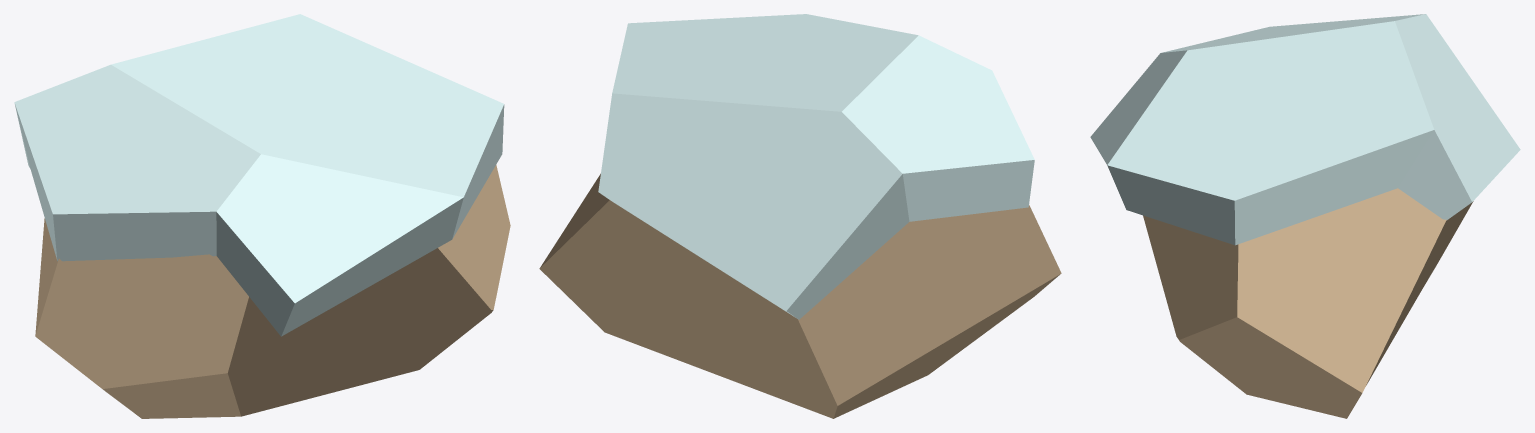
File: nature_stone-snow.fbx
The picture shows the model from 3 angles, left to right: view 1: azimuth 30°, elevation 25°; view 2: azimuth 150°, elevation 25°; view 3: azimuth 270°, elevation 25°; orthographic projection. The views are drawn at different scales.
Parts seen in each view (by area): view 1: nature_stone_snow; view 2: nature_stone_snow; view 3: nature_stone_snow.
Part boxes in pixels (x1,y1,x2,y2): nature_stone_snow: (14,14,510,418); nature_stone_snow: (539,14,1061,418); nature_stone_snow: (1090,14,1520,418).
Size of the model in its own units: 200 by 124 by 173.
